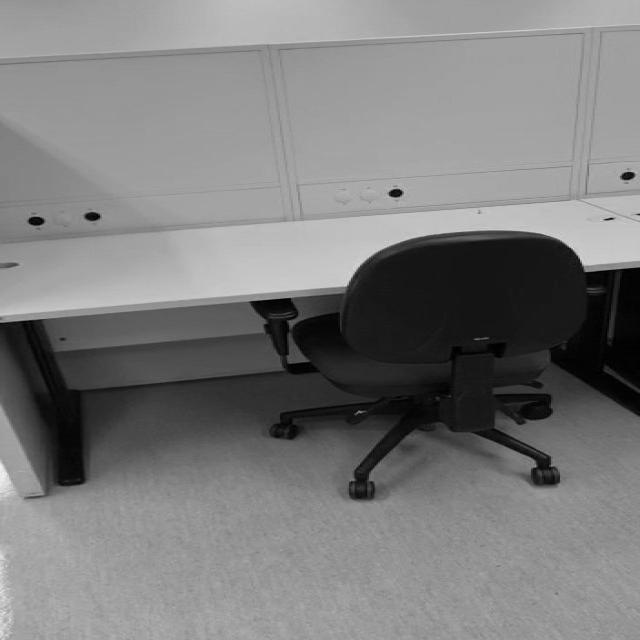cadeira-azul: (248, 230, 608, 500)
